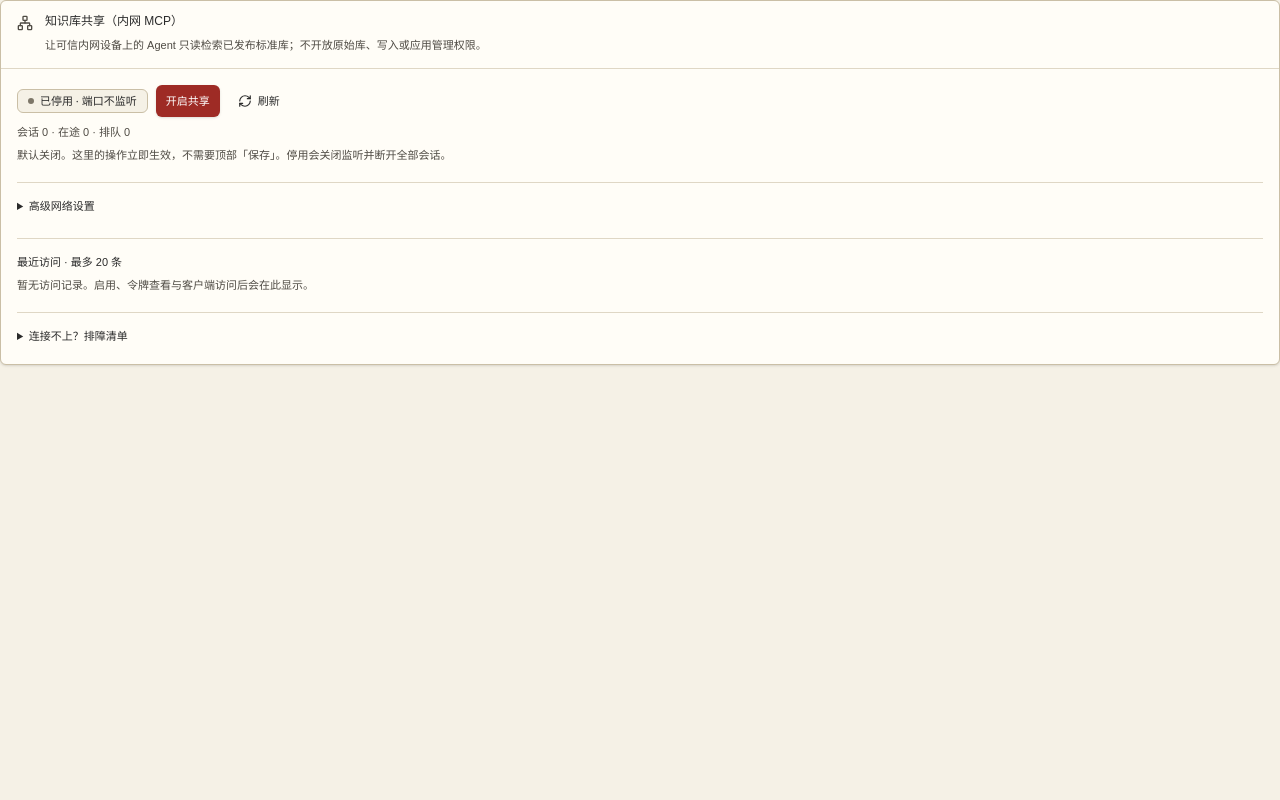
Test: 内网 MCP 设置交互（模拟管理 API） › 默认关闭；开启必须确认明文风险/只读范围/停用方式，并刷新权威状态
This screenshot has width=1280, height=800.
Click the button "开启共享".
click(188, 101)  # box [156,85,220,117]
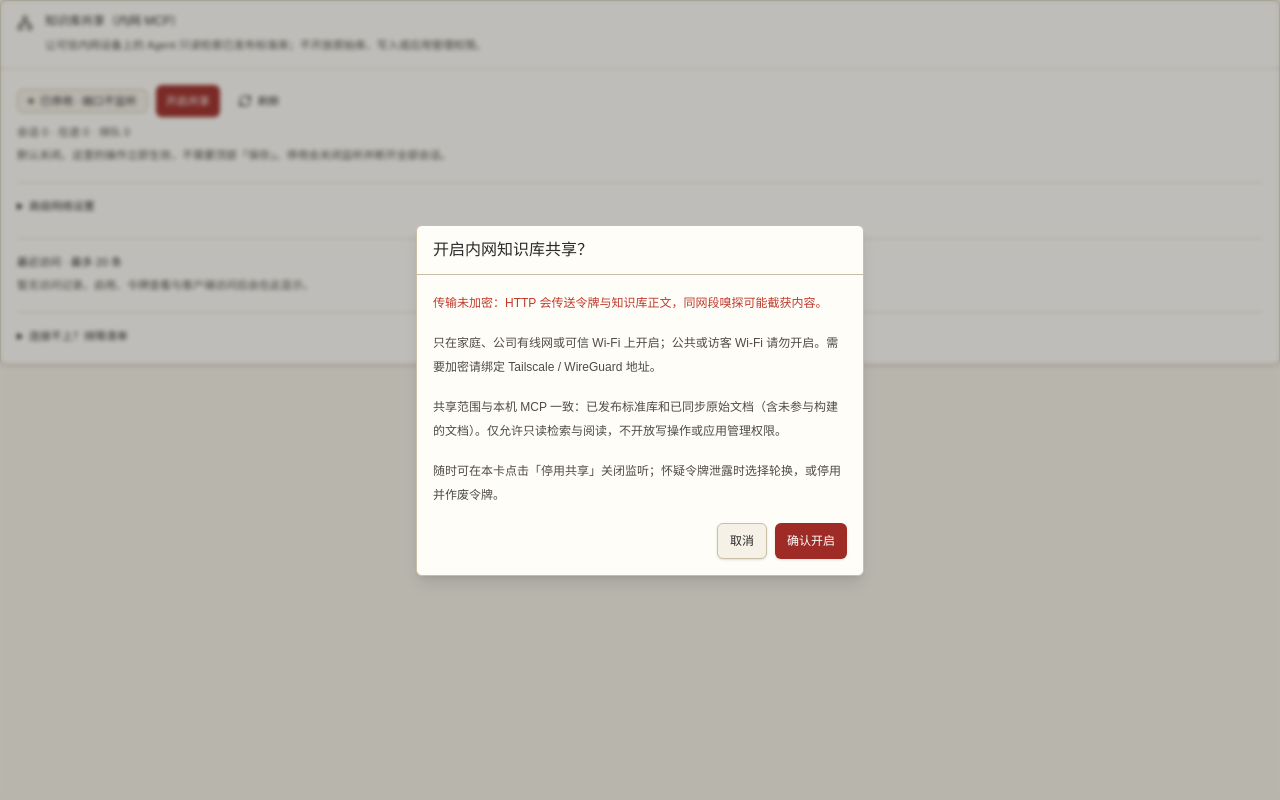
Check: the dialog shows "传输未加密", box [433,296,828,310]
Check: the dialog shows "只读", box [416,224,864,576]
Check: the dialog shows "停用共享", box [433,464,841,502]
Click the button "确认开启".
click(811, 540)  # box [775,522,847,558]
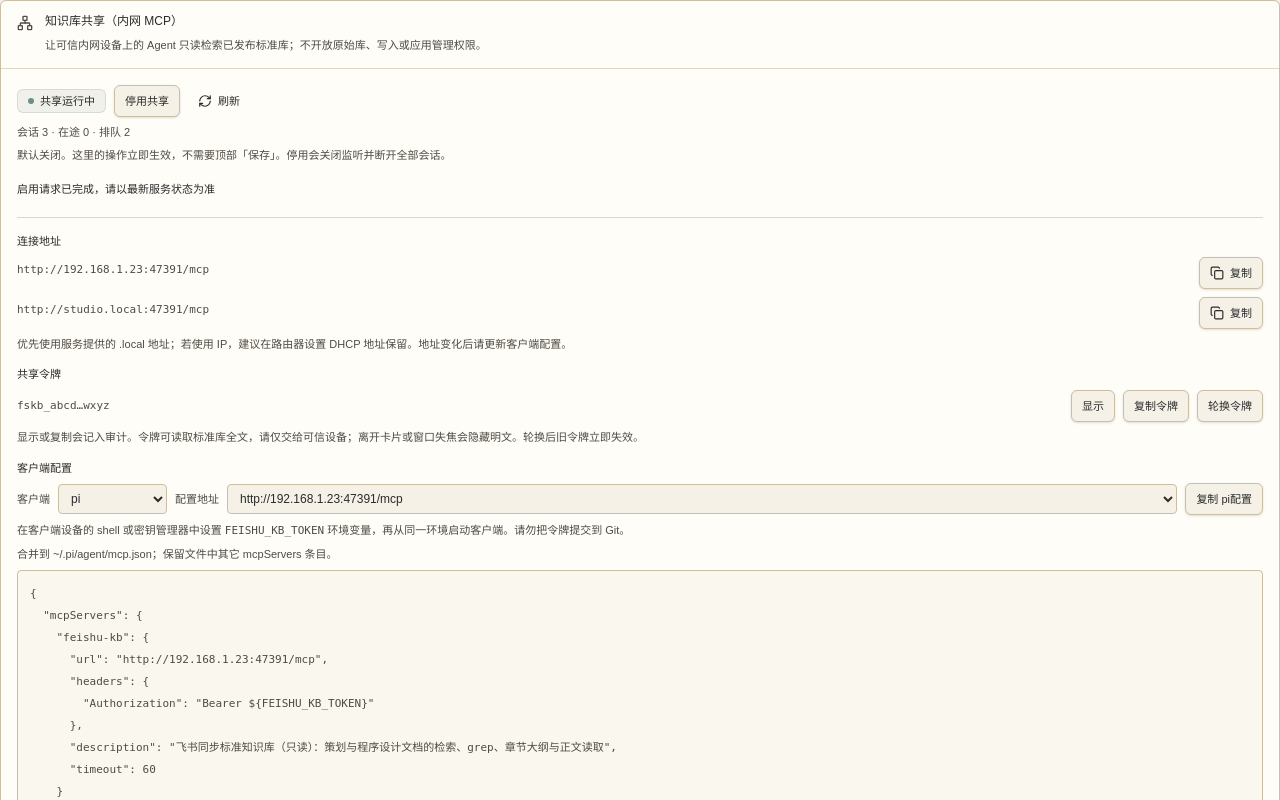
Check: the text "共享运行中" is shown, box [17,89,106,114]
Check: the text "会话 3 · 在途 0 · 排队 2" is shown, box [17,126,130,138]
